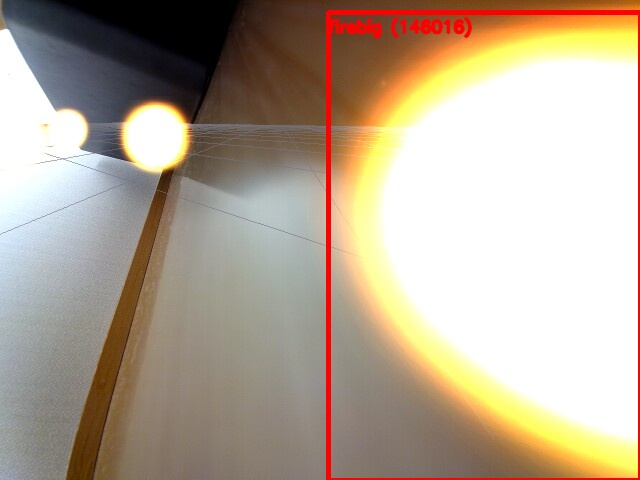firebig: (328, 12, 640, 480)
